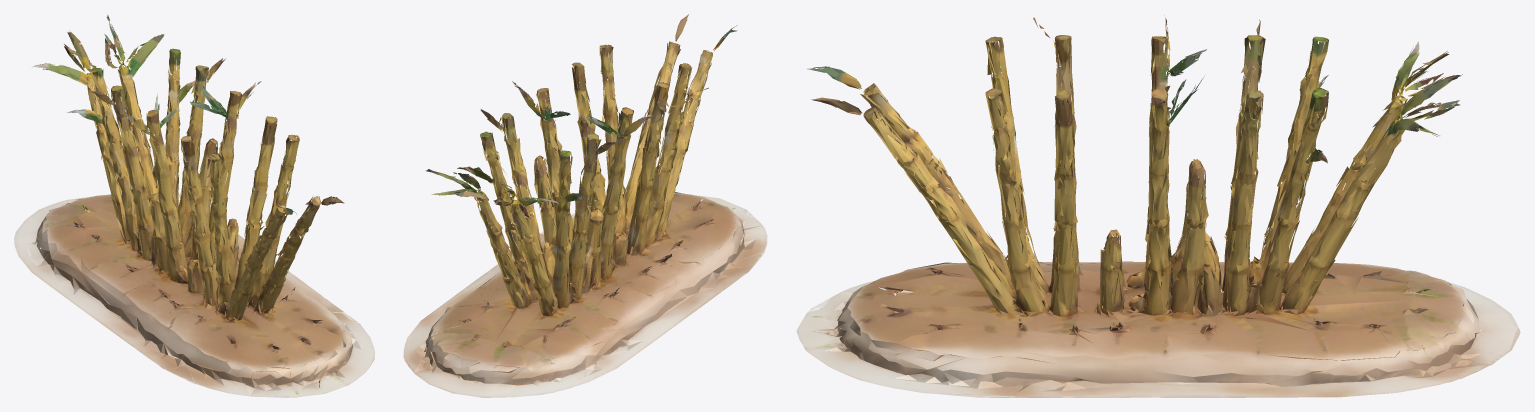
Rendered from Jungle_BambooGrove.glb.
3 renders of one model, left to right at view 1: azimuth 30°, elevation 25°; view 2: azimuth 150°, elevation 25°; view 3: azimuth 270°, elevation 25°, orthographic. The views are drawn at different scales.
Visible parts, largest first — view 1: BambooGrove_Body; view 2: BambooGrove_Body; view 3: BambooGrove_Body.
Boxes of the visible parts, x1,y1,x2,y2 form: BambooGrove_Body: [14, 14, 374, 397]; BambooGrove_Body: [403, 14, 767, 397]; BambooGrove_Body: [796, 15, 1520, 397].
Bounding box in the file's own units: 3.97 × 4.03 × 9.3.
1 material, 1 textured.
